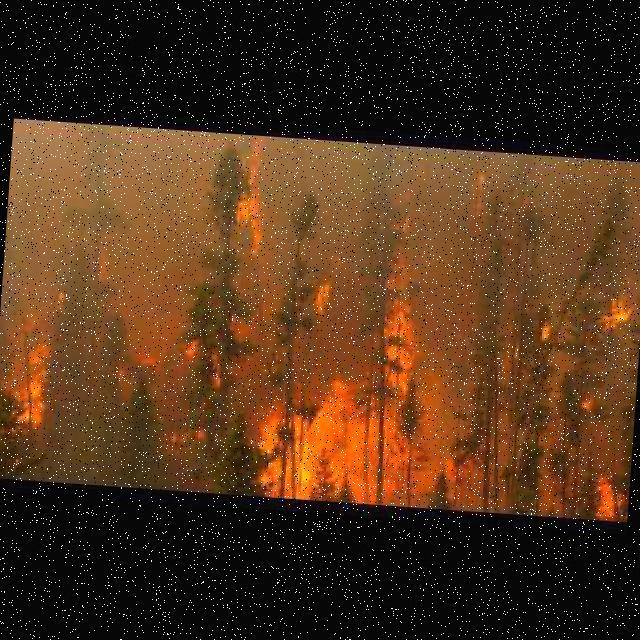Fire: (258, 237, 439, 504), (4, 295, 65, 426), (239, 147, 266, 256), (588, 289, 633, 342), (182, 339, 225, 384), (593, 472, 622, 516), (311, 269, 338, 315), (163, 419, 203, 450), (472, 170, 485, 215), (540, 322, 553, 341), (581, 397, 594, 410)
